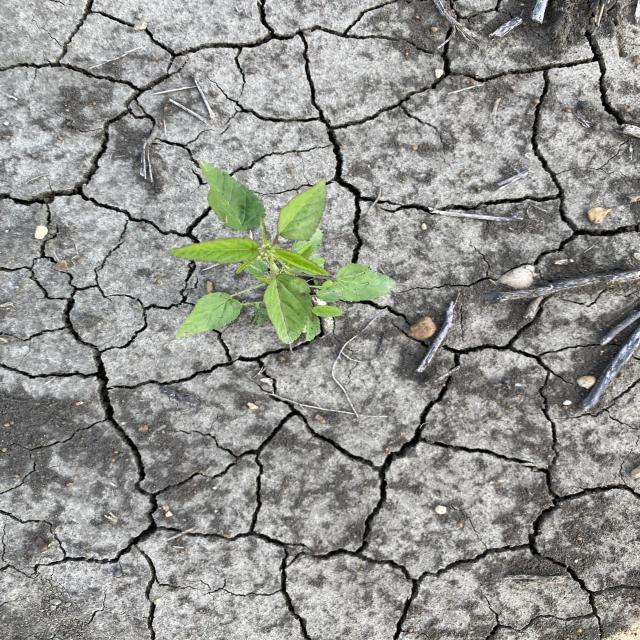PricklySida: (164, 159, 400, 345)
